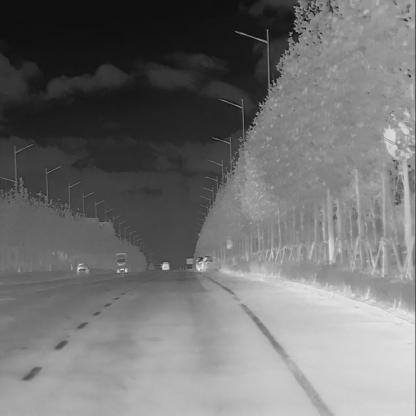car: (115, 251, 129, 274), (200, 255, 218, 270), (76, 261, 89, 274), (195, 255, 204, 272), (161, 260, 170, 270)
truck: (115, 250, 129, 274), (185, 256, 195, 269)
